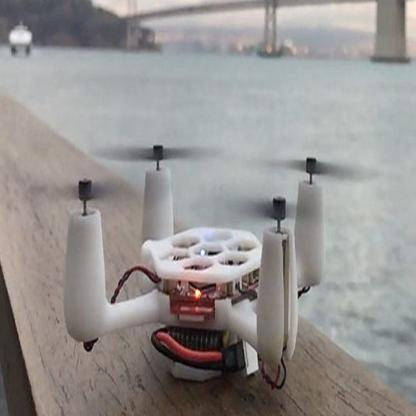drone: (45, 125, 365, 358)
